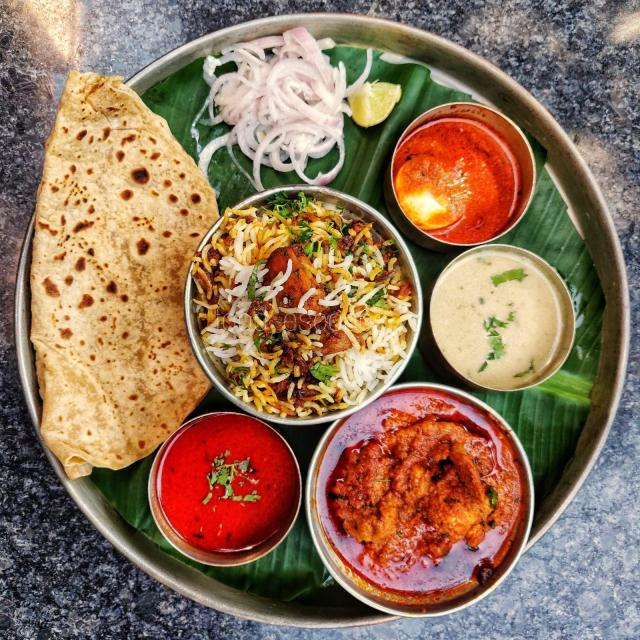non veg meals: (16, 4, 614, 630)
